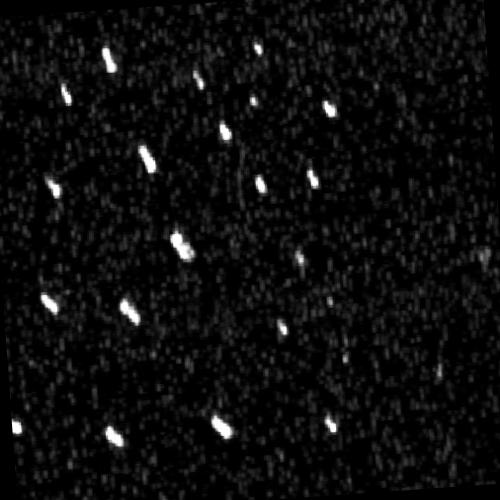ship: (167, 227, 197, 263), (117, 294, 142, 326), (137, 142, 158, 175), (211, 414, 235, 441), (103, 423, 125, 448), (40, 292, 62, 316), (43, 174, 64, 197), (101, 44, 116, 74), (218, 119, 234, 144), (190, 69, 206, 93), (58, 81, 73, 106), (304, 166, 321, 188), (253, 173, 269, 195), (320, 98, 338, 116), (324, 416, 339, 435), (275, 317, 289, 336), (294, 247, 306, 266), (11, 419, 24, 436), (249, 92, 261, 108), (253, 41, 263, 56)
